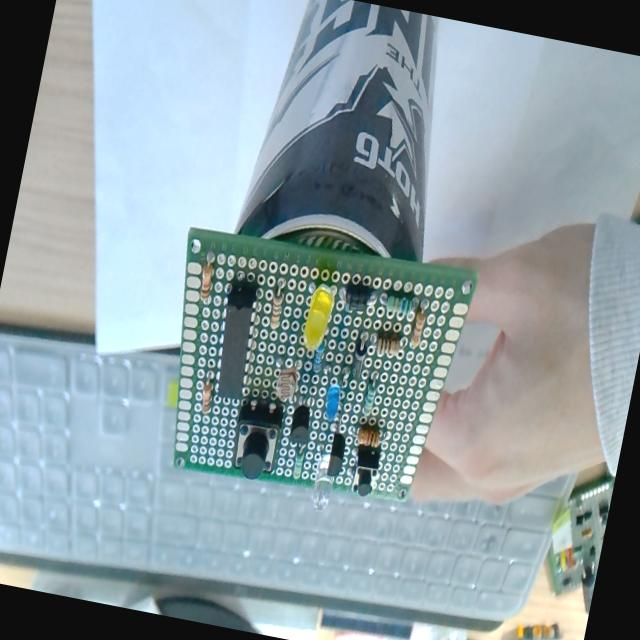IC: (210, 280, 263, 401)
cds: (260, 344, 306, 404)
diode: (342, 282, 378, 318), (348, 336, 369, 385)
led: (300, 284, 336, 354), (307, 447, 340, 513), (322, 382, 343, 423)
resistor: (382, 291, 413, 322), (267, 288, 286, 331), (374, 331, 402, 360), (197, 262, 216, 304), (310, 341, 328, 384), (410, 308, 427, 349), (361, 378, 378, 419), (198, 380, 215, 416), (356, 426, 381, 450), (292, 447, 306, 480)
switch: (229, 398, 285, 482), (348, 443, 383, 500)
transistor: (282, 382, 320, 453), (326, 433, 348, 477)
